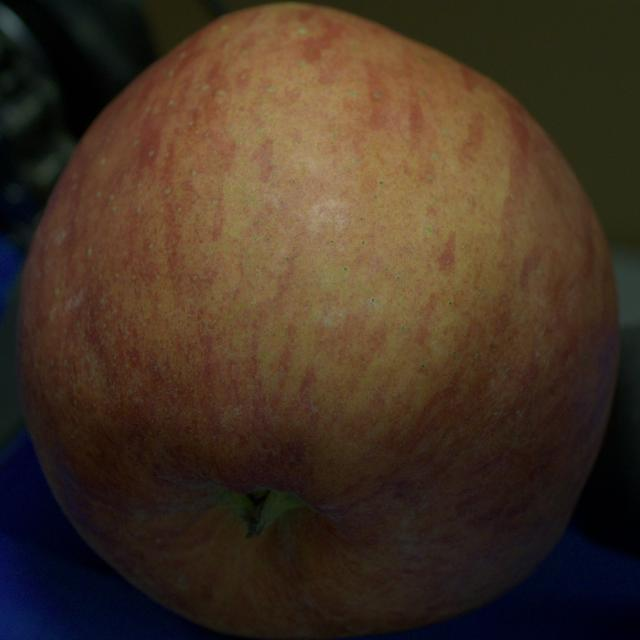apple: (16, 3, 619, 638)
